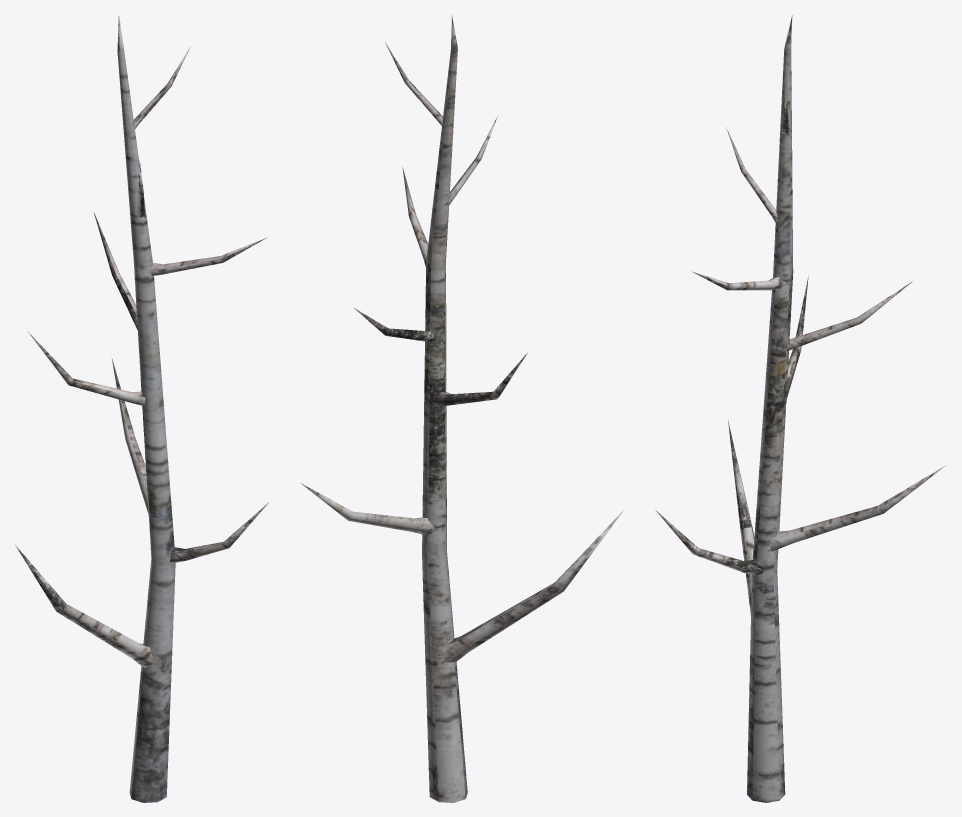
File: Bereza2.fbx
3 renders of one model, left to right at view 1: azimuth 30°, elevation 25°; view 2: azimuth 150°, elevation 25°; view 3: azimuth 270°, elevation 25°, orthographic. The views are drawn at different scales.
Parts seen in each view (by area): view 1: Cylinder; view 2: Cylinder; view 3: Cylinder.
Part boxes in pixels (x1,y1,x2,y2): Cylinder: (15,15,269,802); Cylinder: (300,14,624,802); Cylinder: (655,15,946,802).
Bounding box in the file's own units: 7.07 × 22.19 × 7.64.
